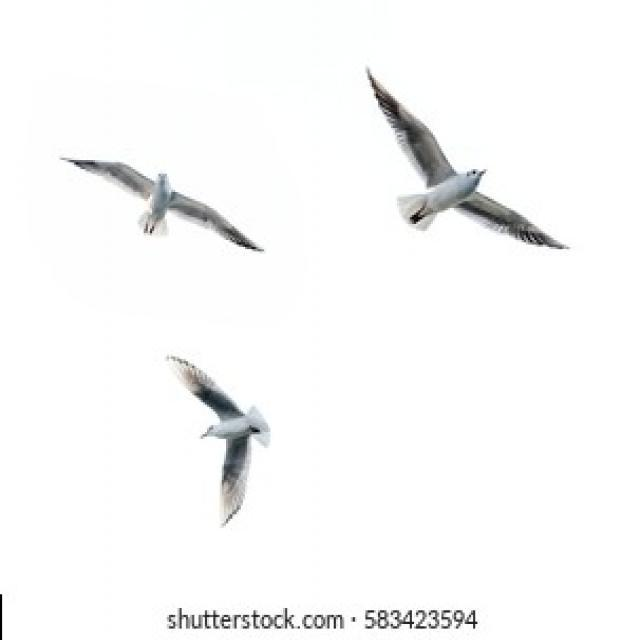bird: (343, 68, 565, 316), (26, 99, 272, 268), (146, 295, 304, 535)
